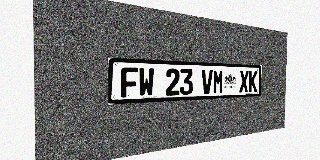2: (166, 68, 180, 96)
3: (180, 69, 193, 95)
F: (121, 67, 138, 98)
K: (248, 71, 257, 92)
M: (213, 70, 224, 94)
V: (201, 69, 213, 94)
W: (138, 68, 154, 97)
X: (239, 70, 249, 92)
